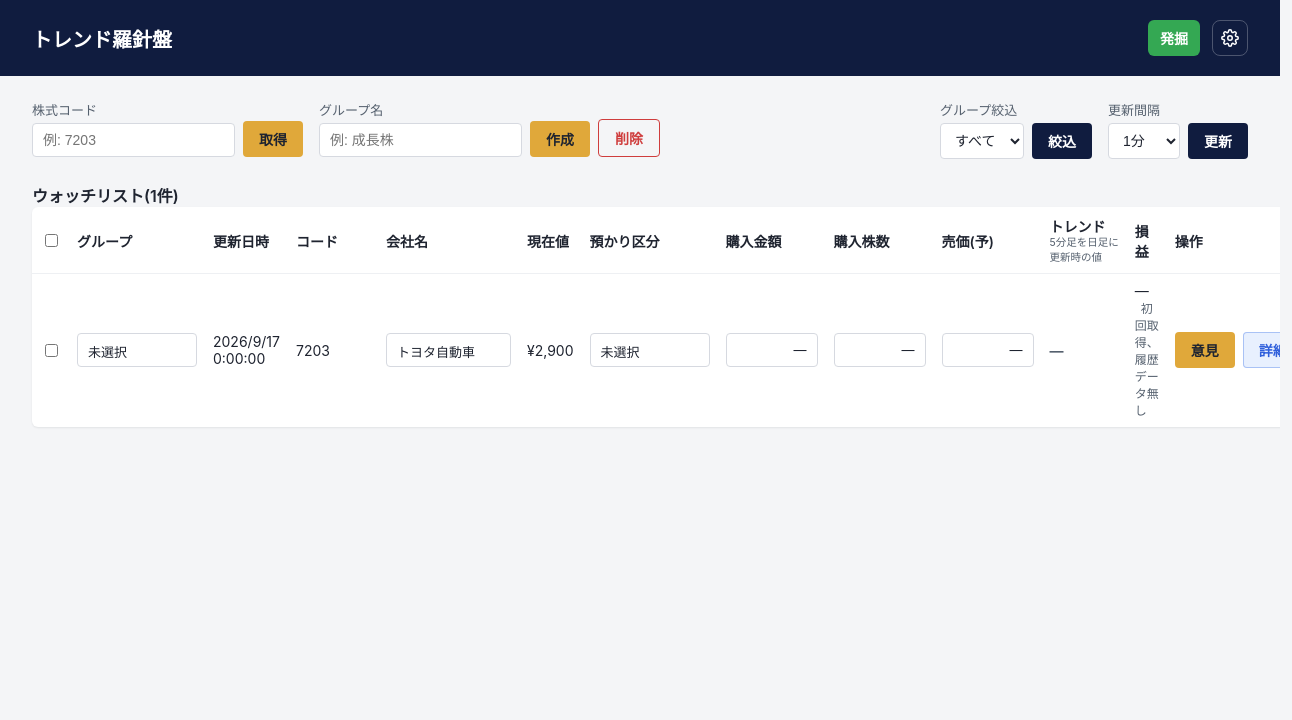
it: WatchlistPage › shows the value before the save again when saving the position fails
The width and height of the screenshot is (1292, 720).
Replace the text in the button named "7203の購入金額" with "2900": (772, 350) [726,333,818,367]
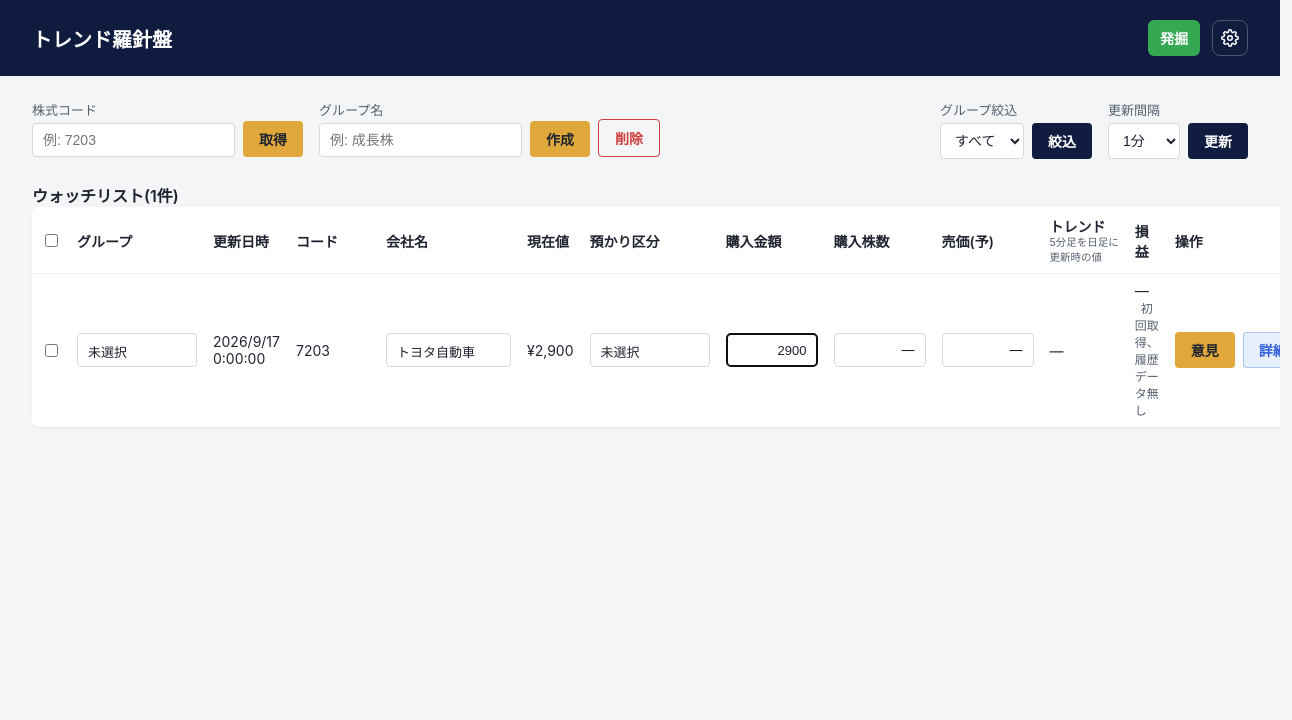
Leave the field named "7203の購入金額", box [726,333,818,367]
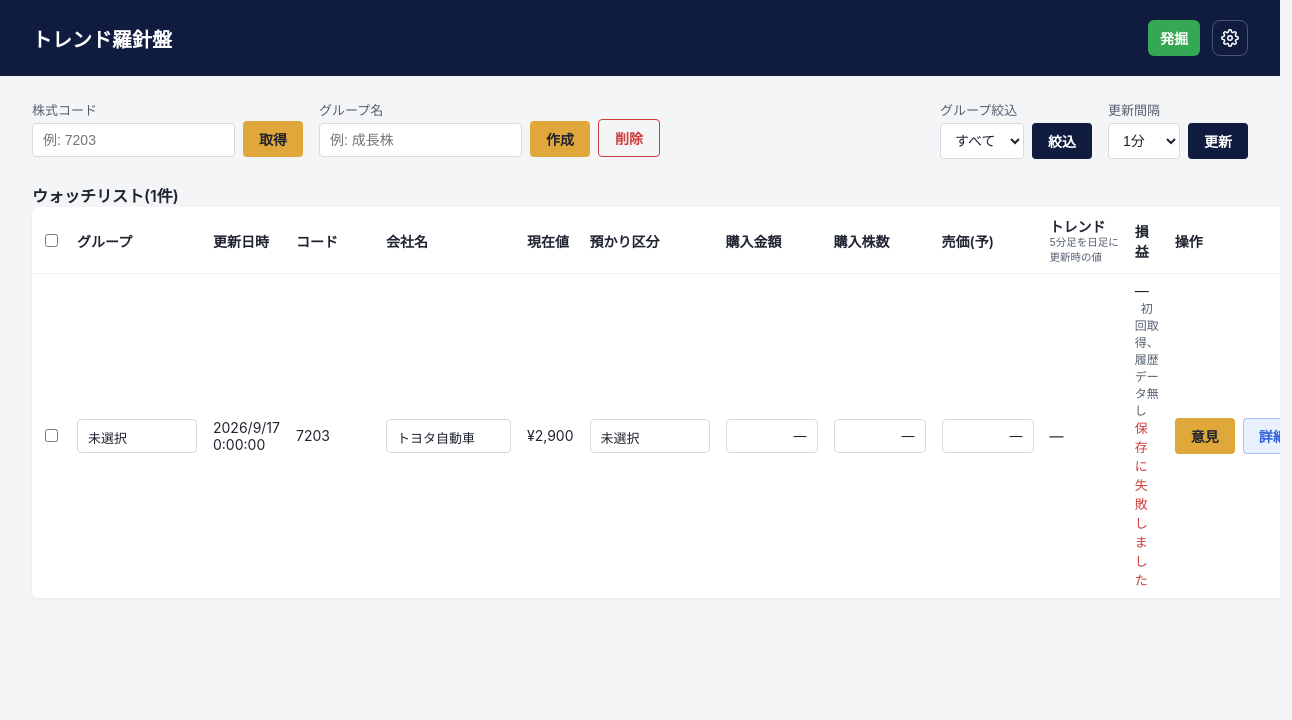
expect the text "保存に失敗しました" is shown: met, box [1135,420,1148,588]
expect the button named "7203の購入金額" reads "—": met, box [726,419,818,453]
